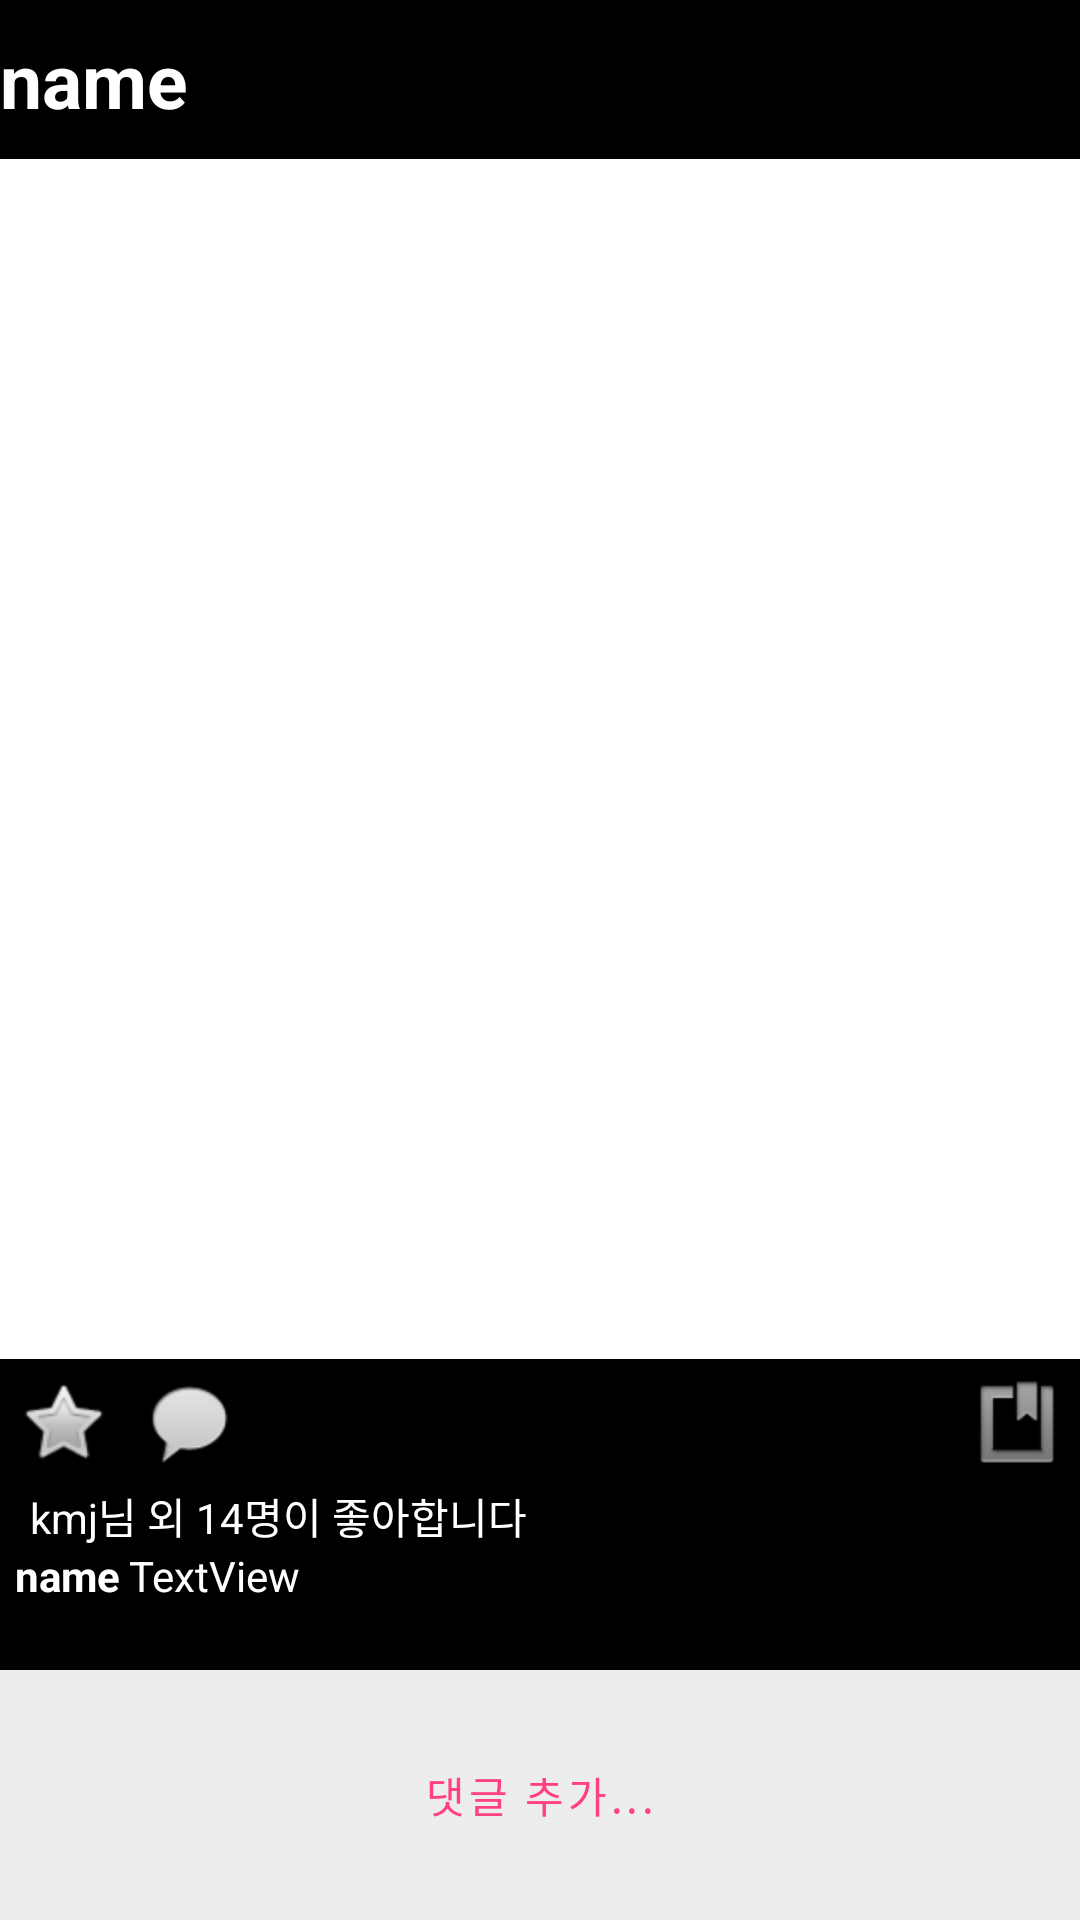

Icon bounding boxes for this 1080×1920 phone screenshot, format (x1, y1, x2, y2):
star: (25, 1385, 103, 1459)
sym action chat: (152, 1386, 227, 1463)
